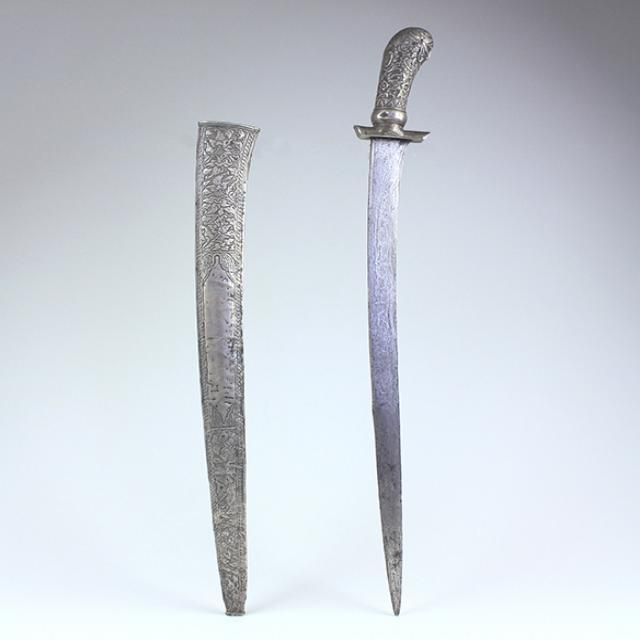short sword: (340, 19, 450, 624)
